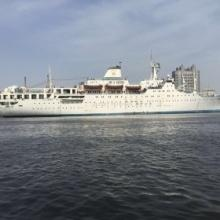youlun: (1, 61, 220, 116)
